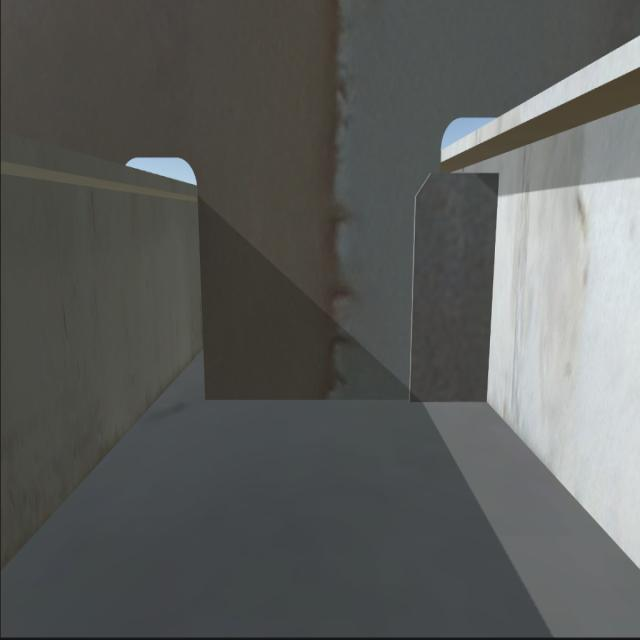fillet_yong_jeop_jang: (205, 398, 486, 413)
longi_yong_jeop_jang: (486, 179, 498, 401)
plate_CP03: (419, 180, 498, 400)
